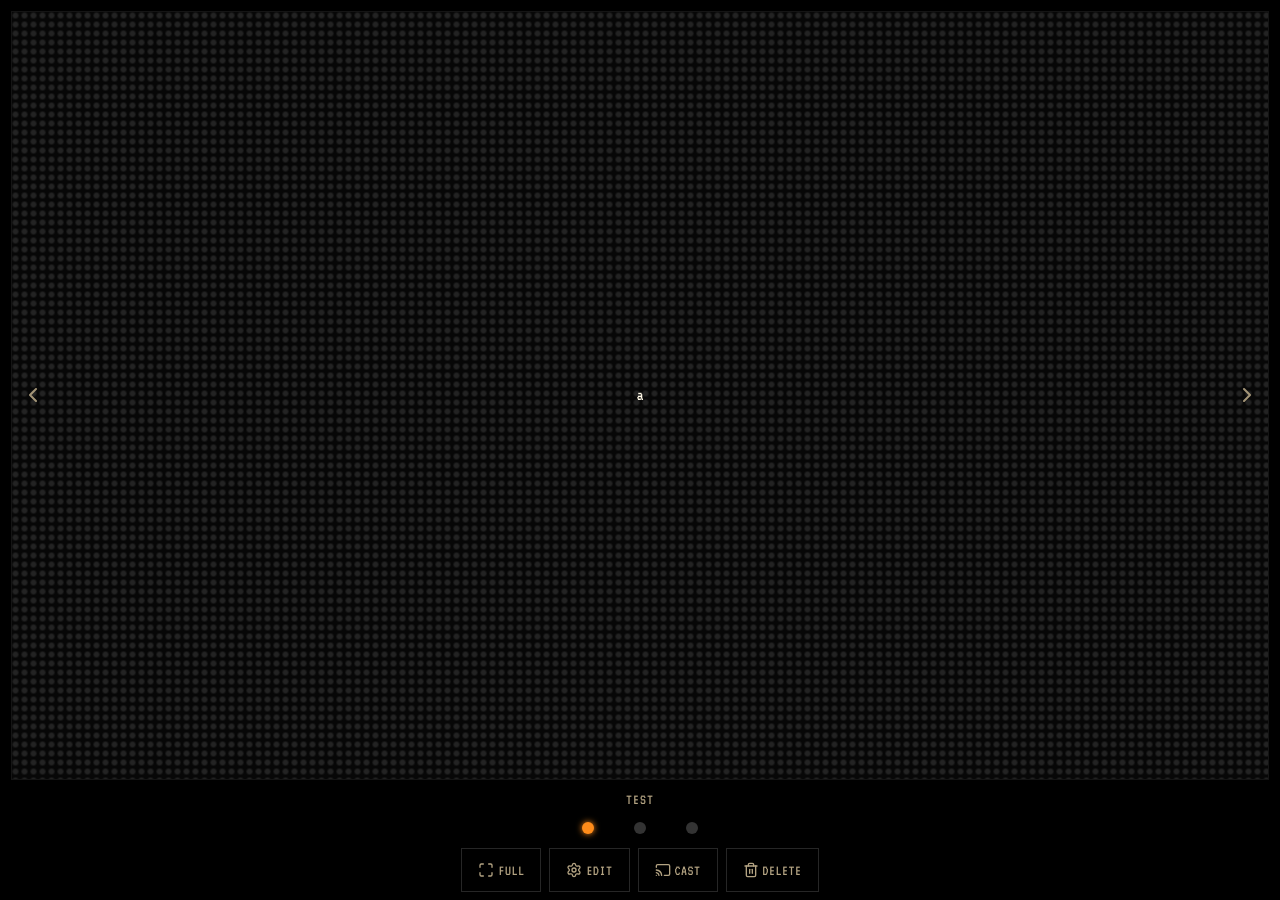
SingleWidgetView (GRID-05) › arrows cycle through widgets and wrap around
The image size is (1280, 900).
Click the button named "Next widget" at x=1247, y=395, box left=1225, top=373, right=1269, bottom=417
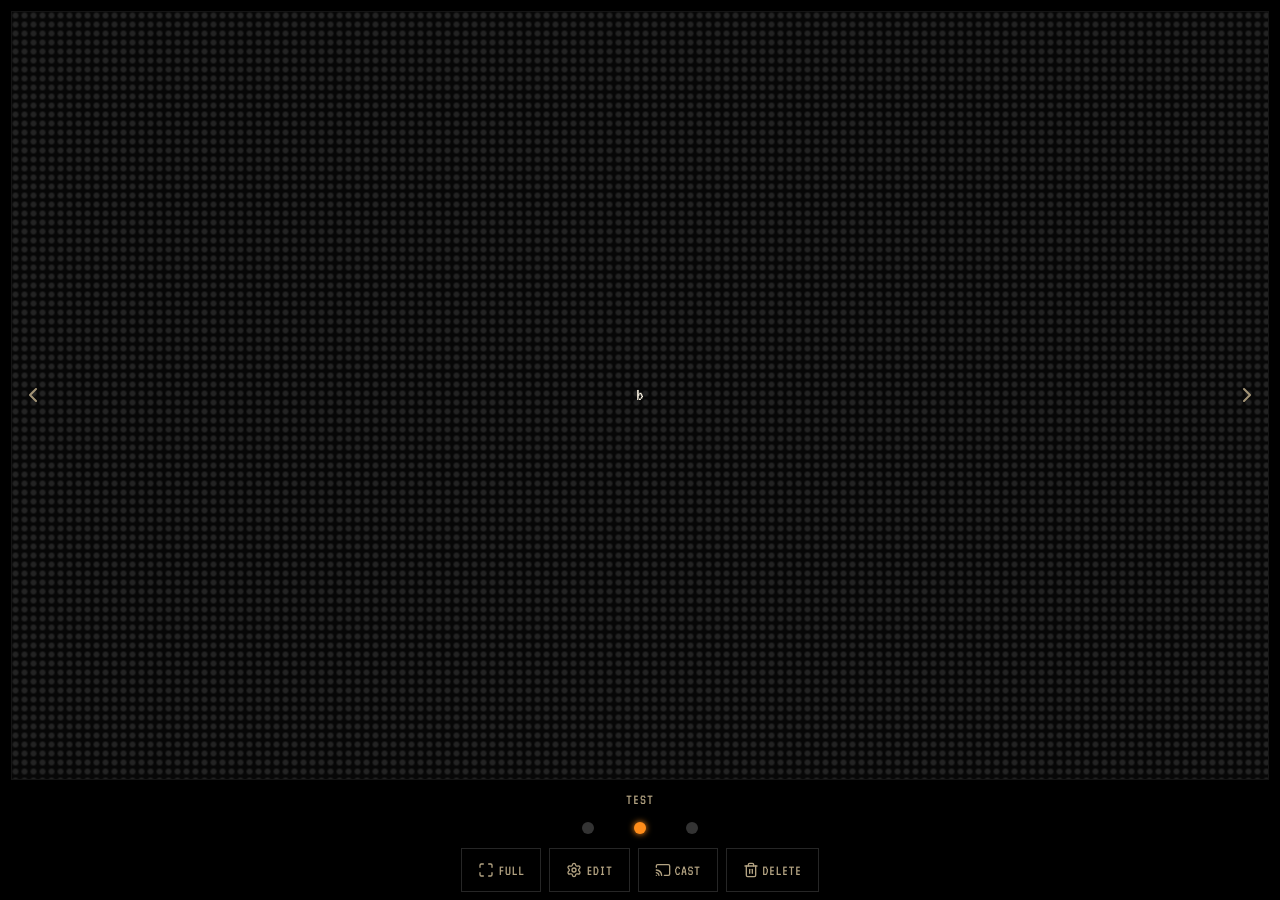
Result: the text "b" is shown at left=636, top=385, right=644, bottom=406
Click the button named "Next widget" at x=1247, y=395, box left=1225, top=373, right=1269, bottom=417
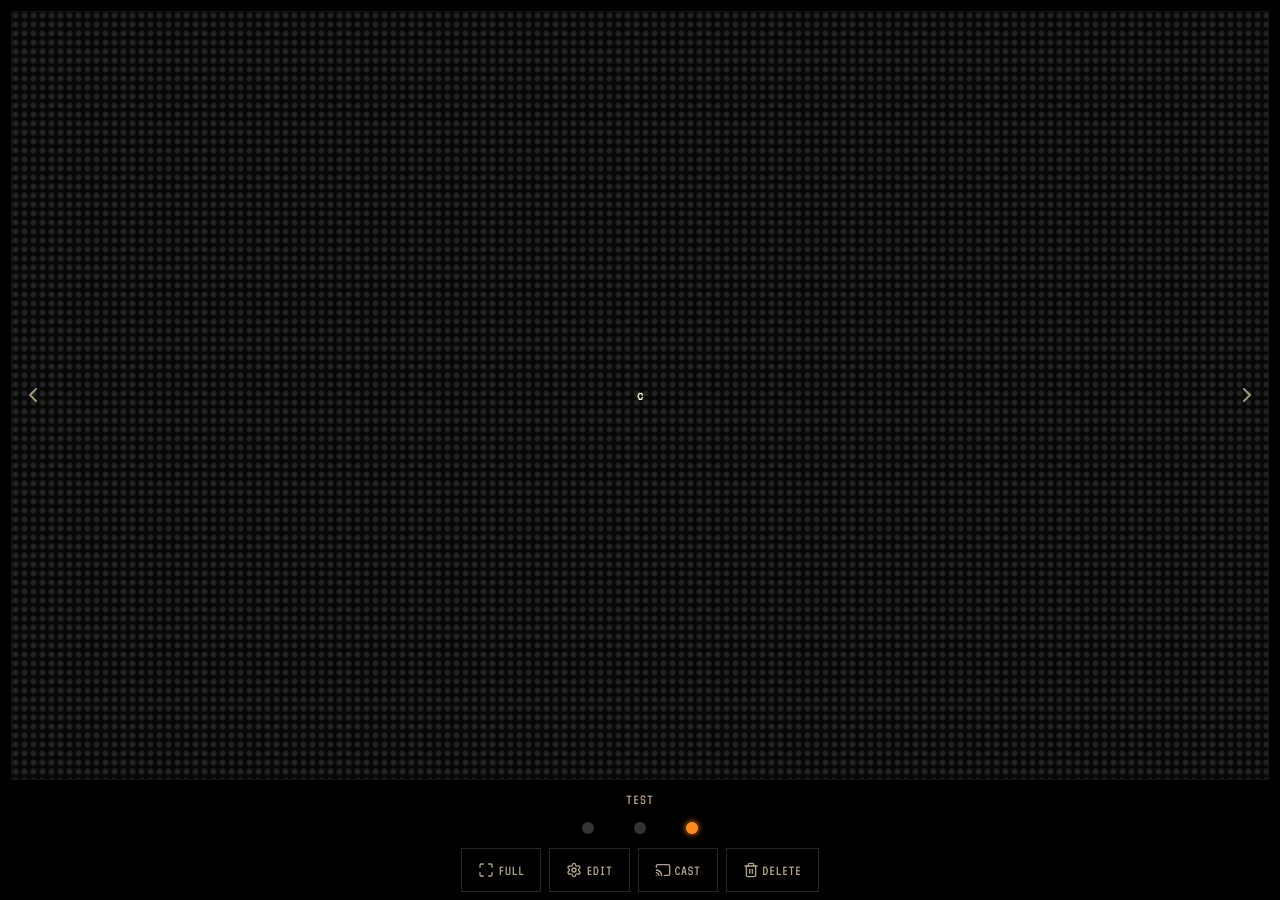
Result: the text "c" is shown at left=636, top=385, right=644, bottom=406
Click the button named "Next widget" at x=1247, y=395, box left=1225, top=373, right=1269, bottom=417
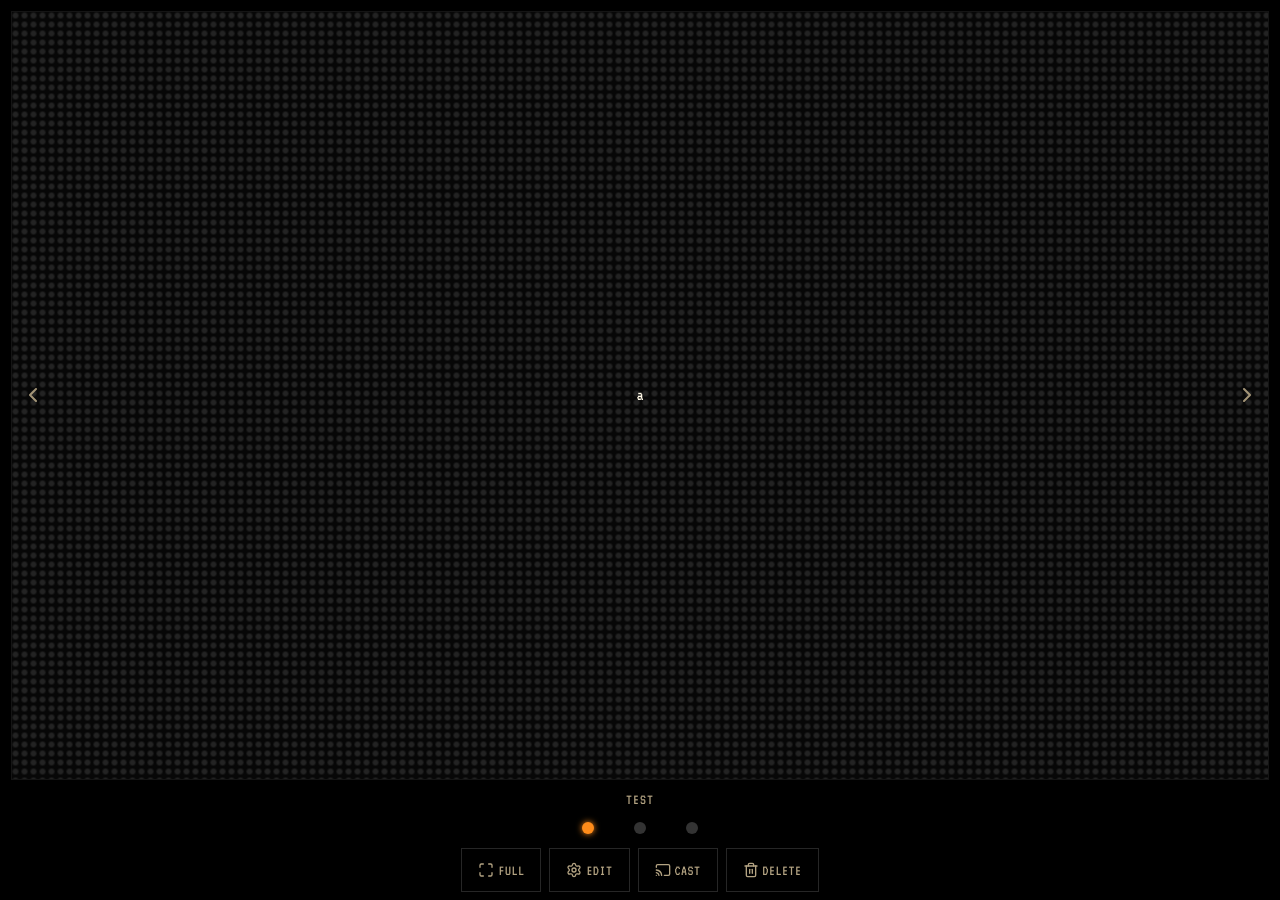
Result: the text "a" is shown at left=636, top=385, right=644, bottom=406
Click the button named "Previous widget" at x=33, y=395, box left=11, top=373, right=55, bottom=417
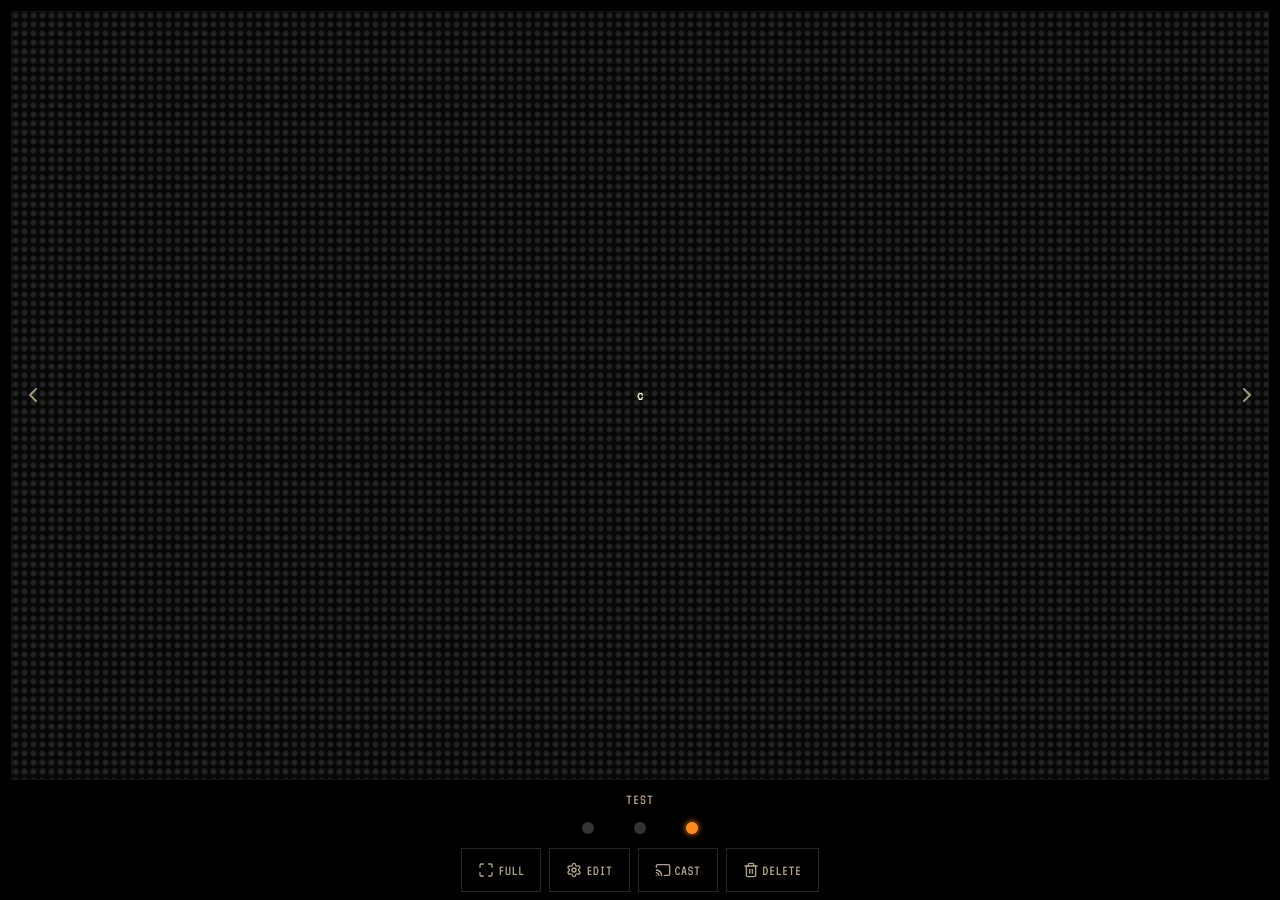
Result: the text "c" is shown at left=636, top=385, right=644, bottom=406
